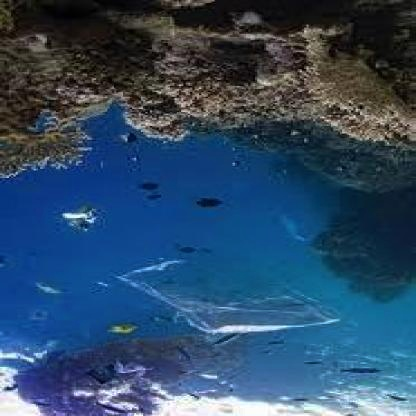pbag: (114, 255, 349, 338)
